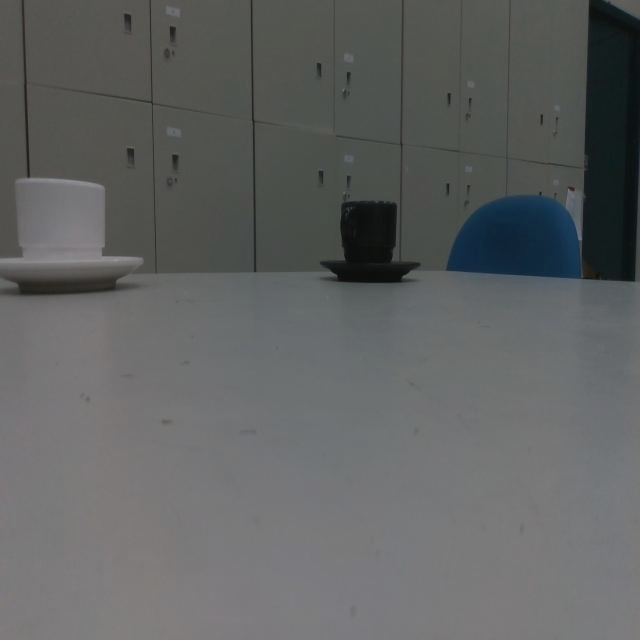black: (319, 198, 423, 284)
white: (0, 175, 145, 294)
